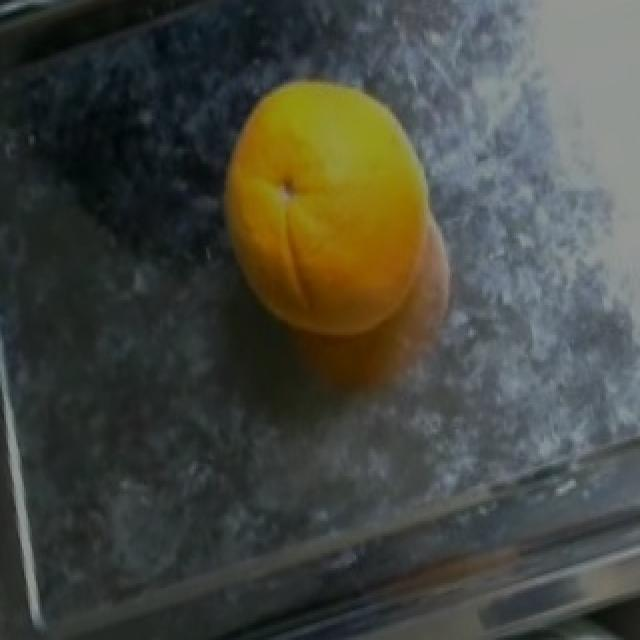Fruit: (200, 52, 470, 375)
